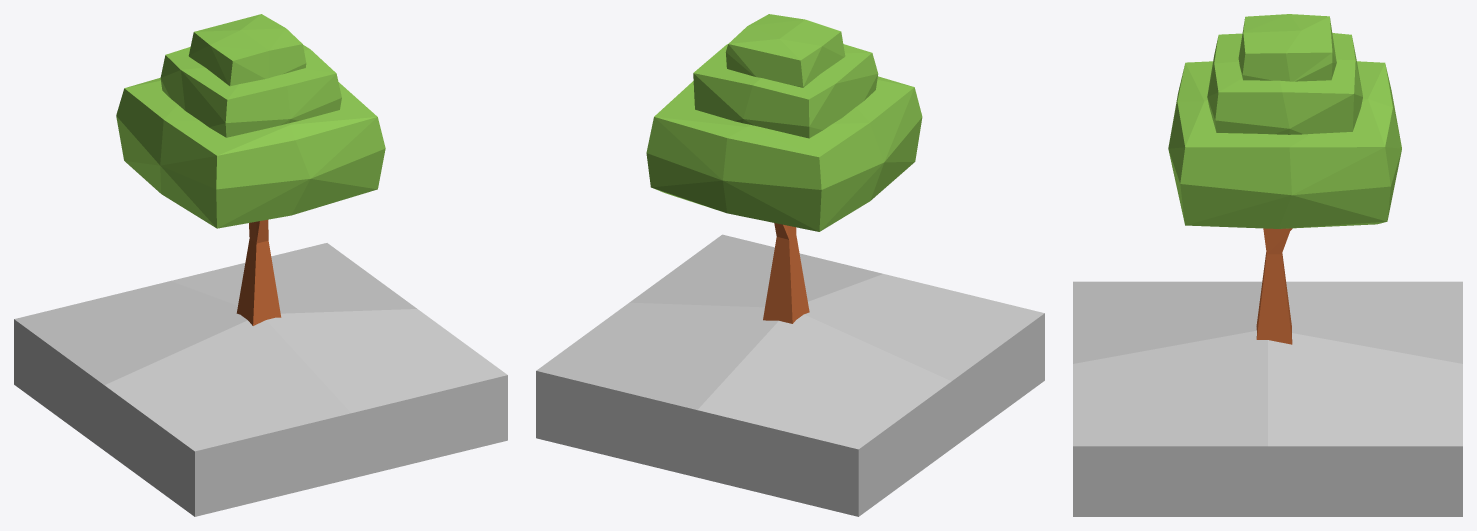
File: GreenTree.fbx
3 renders of one model, left to right at view 1: azimuth 30°, elevation 25°; view 2: azimuth 150°, elevation 25°; view 3: azimuth 270°, elevation 25°, orthographic. The views are drawn at different scales.
Parts seen in each view (by area): view 1: Cube.008, Cube.003, Cube.001; view 2: Cube.008, Cube.003, Cube.001; view 3: Cube.008, Cube.003, Cube.001.
Boxes of the visible parts, x1,y1,x2,y2 form: Cube.008: [14, 243, 507, 516]; Cube.003: [116, 14, 385, 228]; Cube.001: [236, 219, 281, 325]; Cube.008: [536, 234, 1044, 516]; Cube.003: [646, 14, 922, 231]; Cube.001: [763, 223, 809, 323]; Cube.008: [1073, 281, 1462, 516]; Cube.003: [1168, 14, 1401, 228]; Cube.001: [1256, 228, 1292, 344].
Size of the model in its own units: 500 by 568 by 500.
